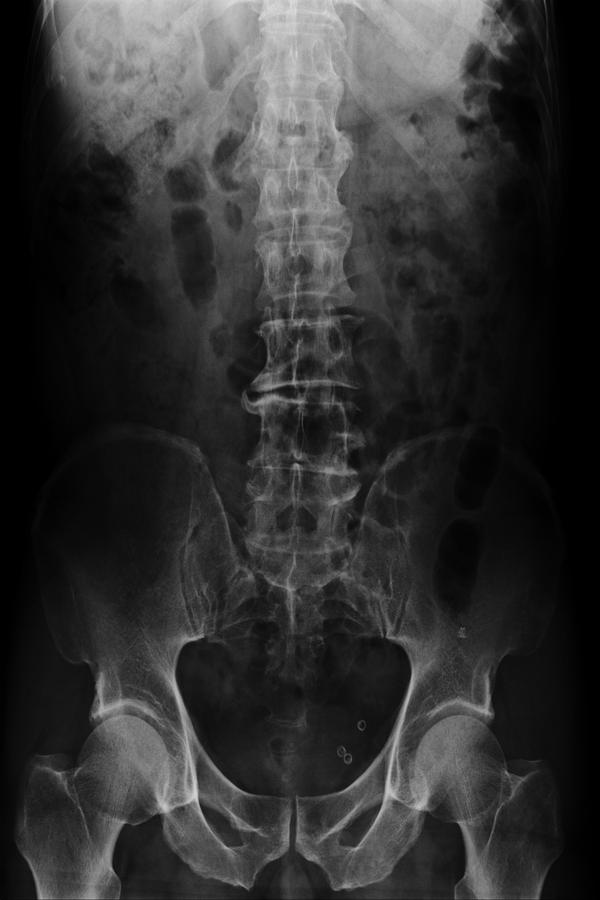not lumbar scoliosis: (239, 163, 368, 604)
